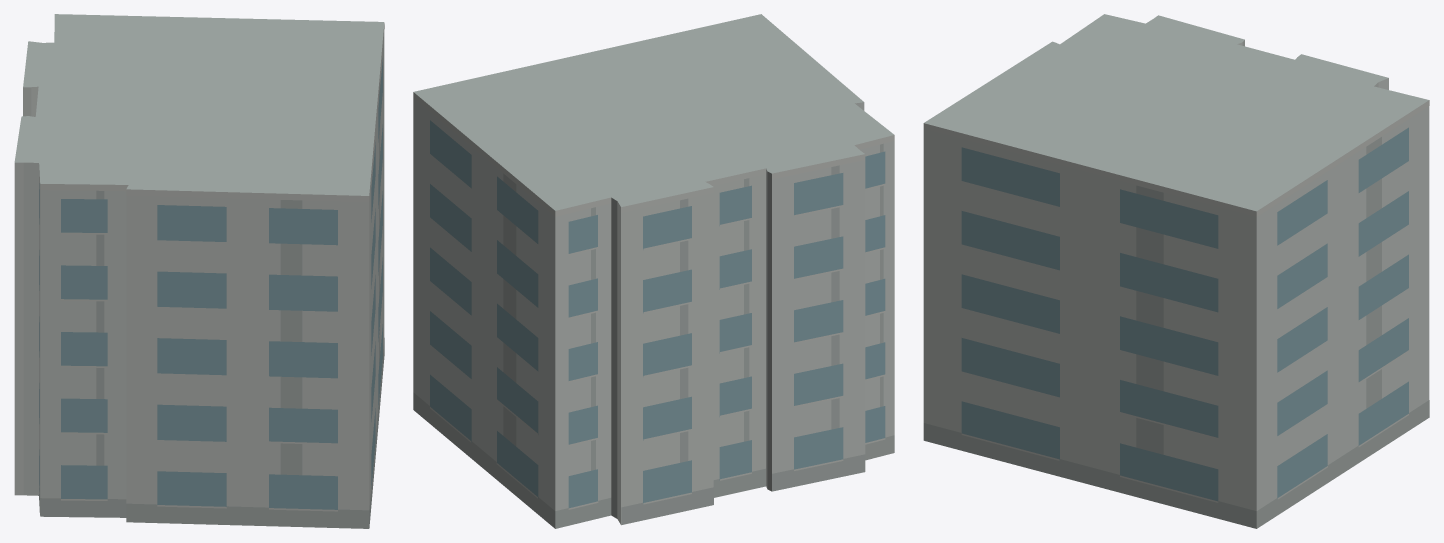
The model's file is survey-upis-32889171.glb.
3 renders of one model, left to right at view 1: azimuth 30°, elevation 25°; view 2: azimuth 150°, elevation 25°; view 3: azimuth 270°, elevation 25°, orthographic. The views are drawn at different scales.
Visible parts, largest first — view 1: survey-upis-32889171.tmp; view 2: survey-upis-32889171.tmp; view 3: survey-upis-32889171.tmp.
Part boxes in pixels (box(x1,y1,x2,y2)): survey-upis-32889171.tmp: box(14, 14, 384, 528); survey-upis-32889171.tmp: box(413, 14, 894, 528); survey-upis-32889171.tmp: box(923, 14, 1429, 528).
Size of the model in its own units: 17.34 by 13 by 18.78.
